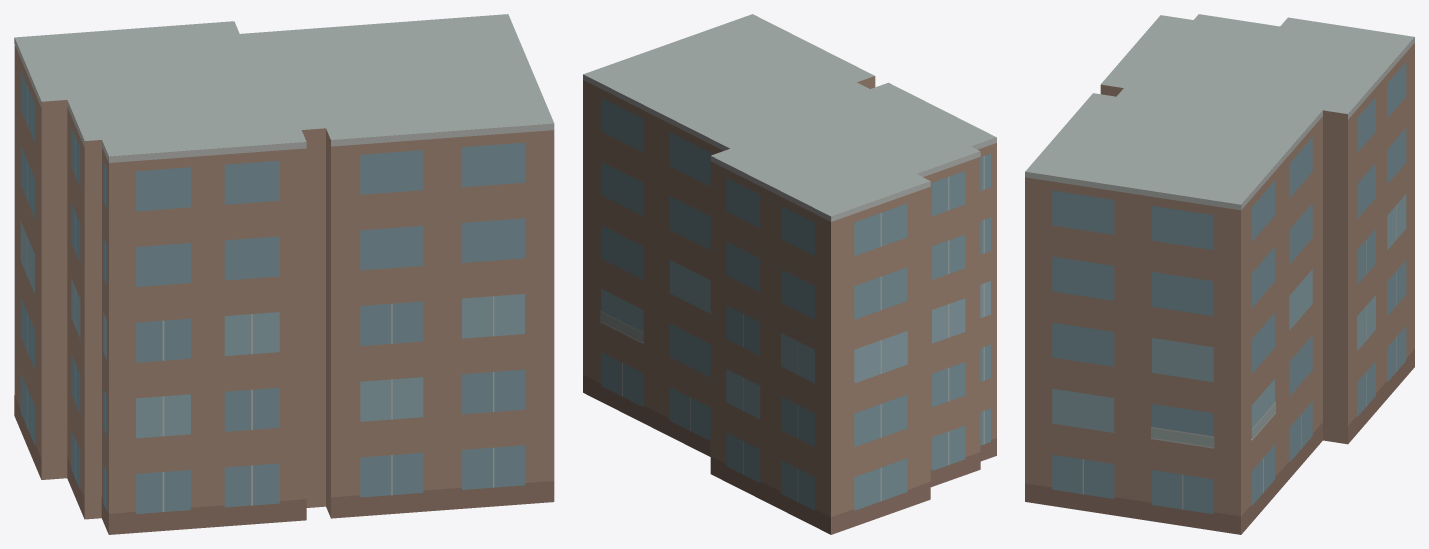
Rendered from survey-upis-32998954.glb.
3 renders of one model, left to right at view 1: azimuth 30°, elevation 25°; view 2: azimuth 150°, elevation 25°; view 3: azimuth 270°, elevation 25°, orthographic. The views are drawn at different scales.
Parts seen in each view (by area): view 1: survey-upis-32998954.tmp; view 2: survey-upis-32998954.tmp; view 3: survey-upis-32998954.tmp.
Part boxes in pixels (<box>): survey-upis-32998954.tmp: <box>14,14,554,534</box>; survey-upis-32998954.tmp: <box>583,14,996,534</box>; survey-upis-32998954.tmp: <box>1025,14,1414,534</box>.
Size of the model in its own units: 17.6 by 14.2 by 15.2.
